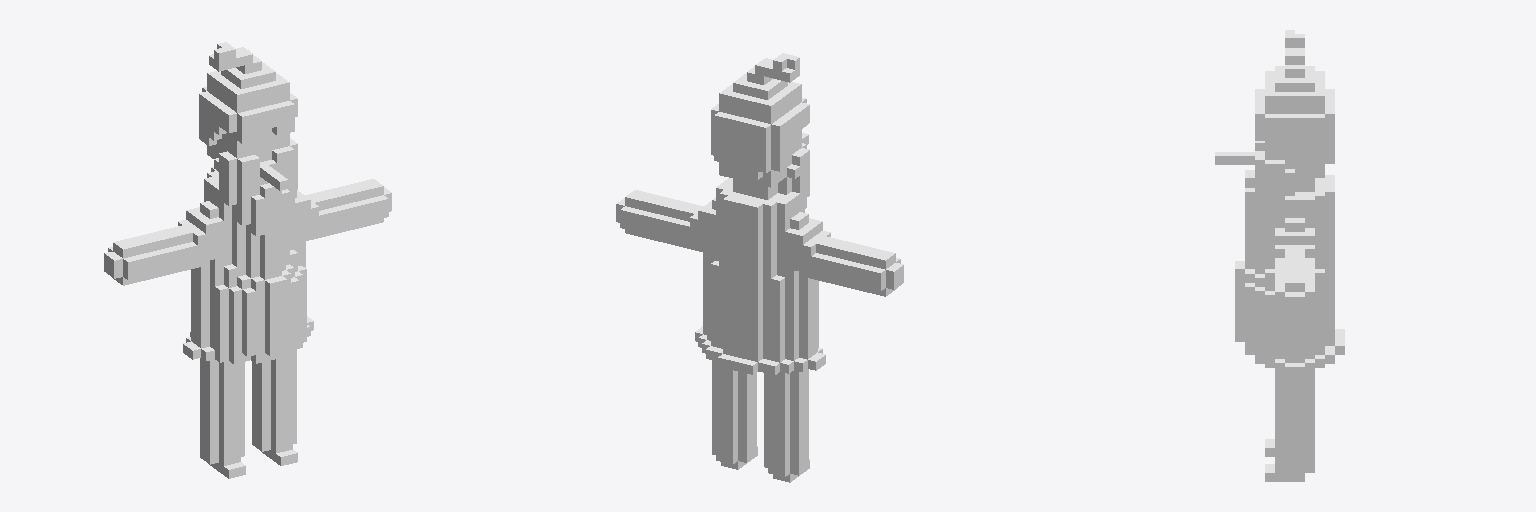
The model's file is santa.obj.
3 views of the same model, side by side, from view 1: azimuth 30°, elevation 25°; view 2: azimuth 150°, elevation 25°; view 3: azimuth 270°, elevation 25° (orthographic).
Parts seen in each view (by area): view 1: object 1; view 2: object 1; view 3: object 1.
Boxes of the visible parts, x1,y1,x2,y2 form: object 1: [104, 42, 391, 478]; object 1: [616, 53, 903, 482]; object 1: [1215, 30, 1344, 481].
Bounding box in the file's own units: 3.2 × 4.6 × 1.3.